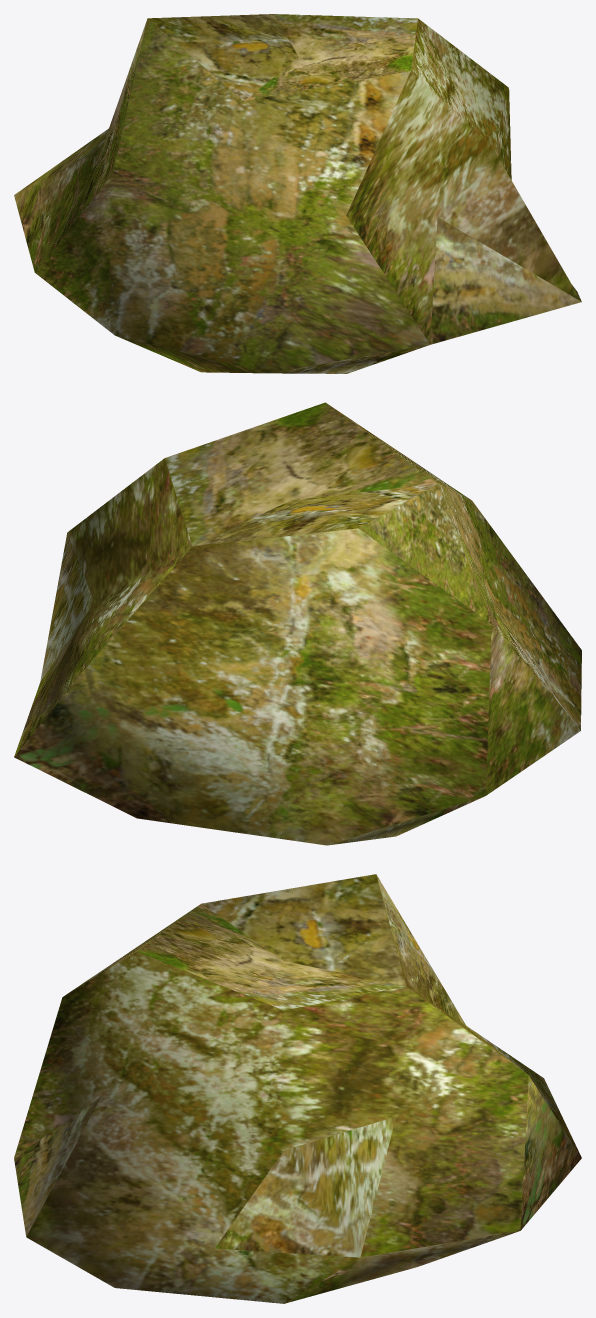
The model's file is rock_small.fbx.
3 renders of one model, top to bottom at view 1: azimuth 30°, elevation 25°; view 2: azimuth 150°, elevation 25°; view 3: azimuth 270°, elevation 25°, orthographic. The views are drawn at different scales.
Visible parts, largest first — view 1: rock_small; view 2: rock_small; view 3: rock_small.
Part boxes in pixels (x1=…): rock_small: x1=14, y1=14, x2=581, y2=373; rock_small: x1=14, y1=402, x2=581, y2=845; rock_small: x1=14, y1=874, x2=581, y2=1303.
Size of the model in its own units: 0.3119 by 0.1667 by 0.3277.
1 material, 1 textured.
